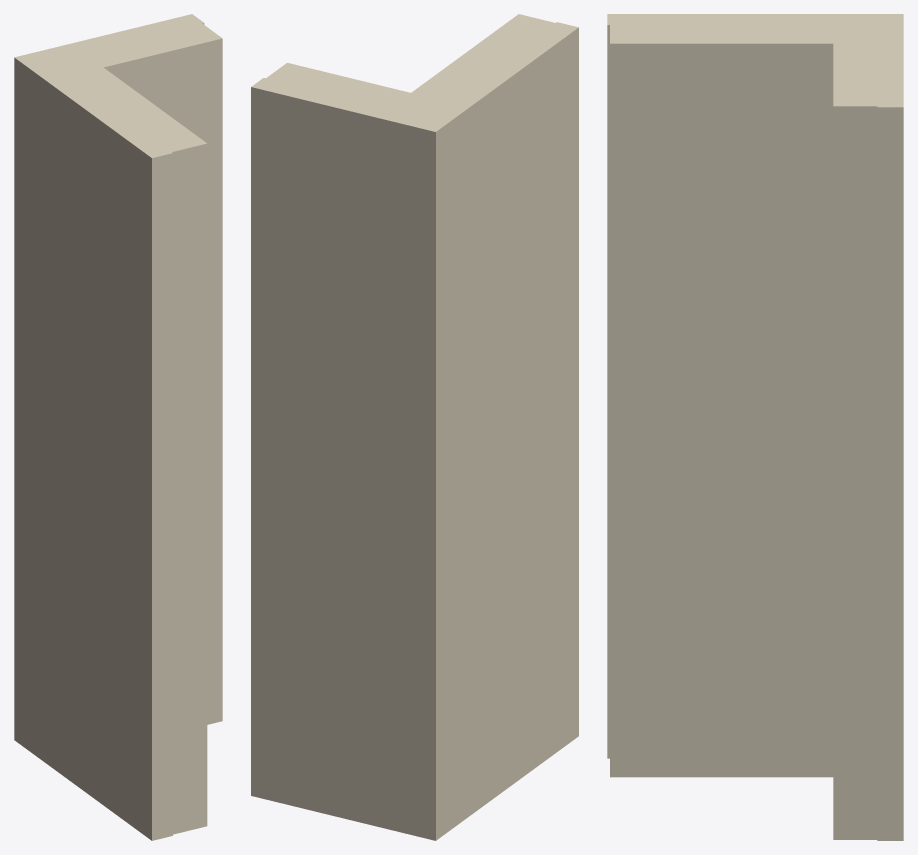
The picture shows the model from 3 angles, left to right: view 1: azimuth 30°, elevation 25°; view 2: azimuth 150°, elevation 25°; view 3: azimuth 270°, elevation 25°; orthographic projection. The views are drawn at different scales.
Parts seen in each view (by area): view 1: A-FF-WALL-004; view 2: A-FF-WALL-004; view 3: A-FF-WALL-004.
Boxes of the visible parts, x1,y1,x2,y2 form: A-FF-WALL-004: (14, 14, 222, 840); A-FF-WALL-004: (251, 14, 578, 840); A-FF-WALL-004: (607, 14, 903, 840).
Bounding box in the file's own units: 0.66 × 2.42 × 0.885.
